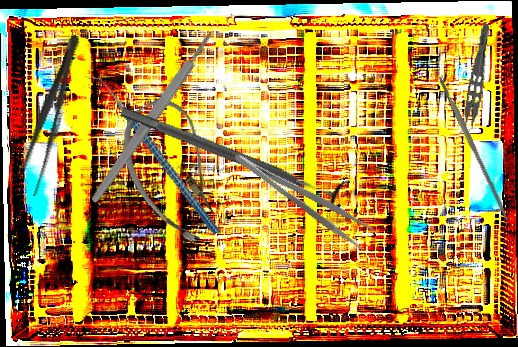Cannula: (103, 88, 246, 254)
Chopper: (83, 51, 221, 258)
Dressing Forceps: (230, 138, 378, 254), (13, 31, 89, 198)
Fixation Ring: (115, 93, 351, 215)
Scalpel Handle: (87, 27, 218, 207), (437, 75, 511, 222)
Tissue Forceps: (456, 21, 493, 137)
